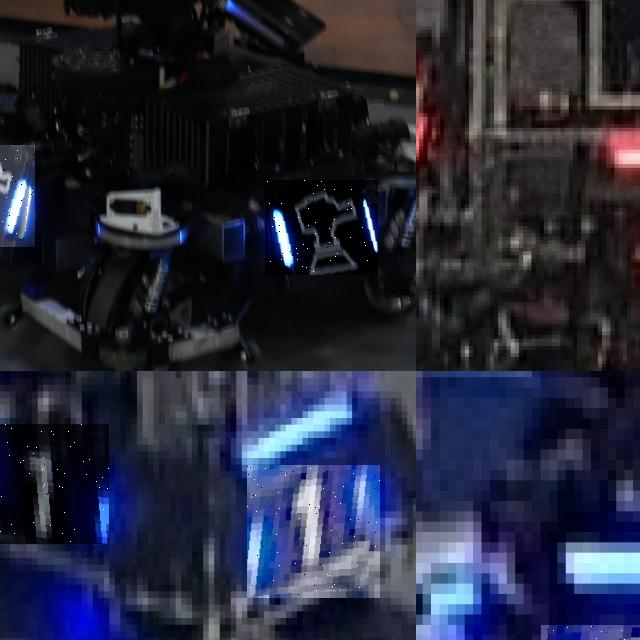B1: (247, 465, 380, 598), (0, 424, 109, 544)
Bs: (265, 180, 378, 275), (0, 145, 34, 246)
